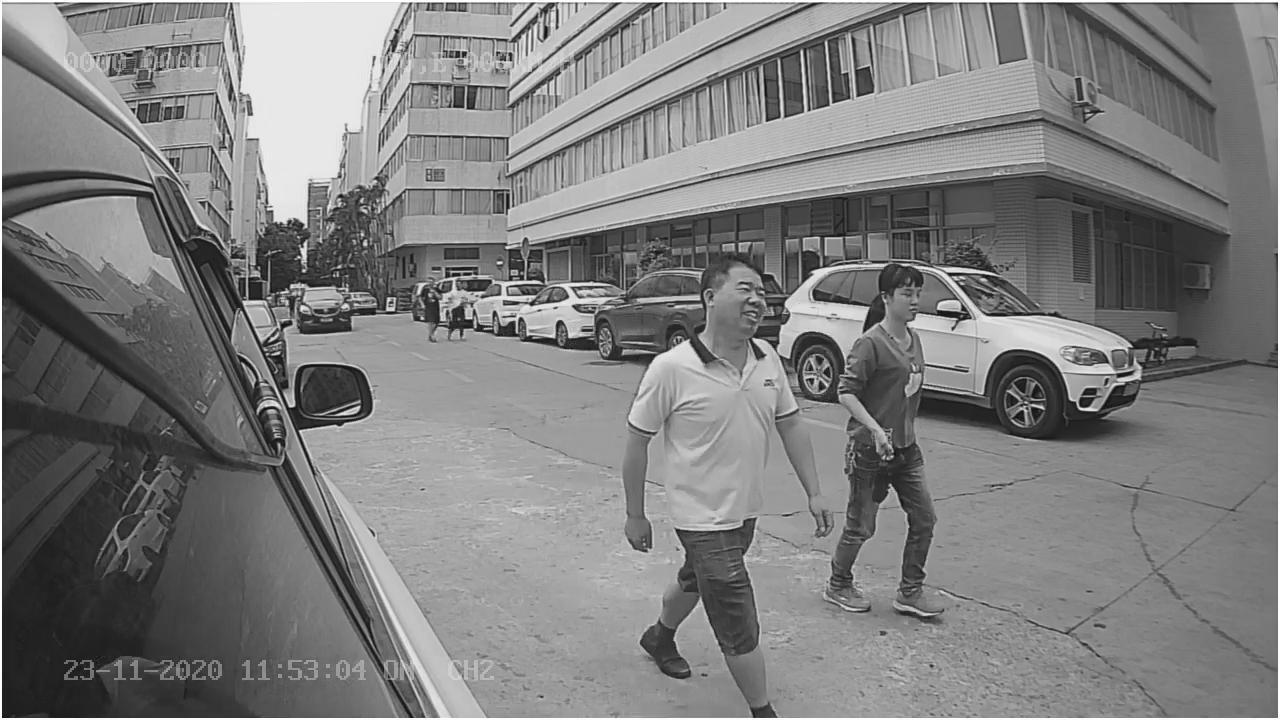person: (617, 253, 811, 719), (828, 259, 942, 616)
